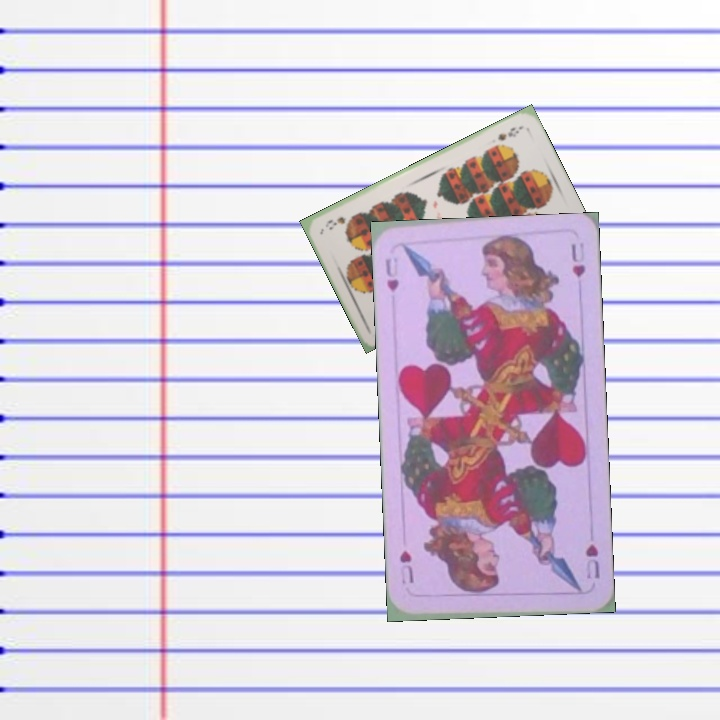HU: (581, 539, 603, 582), (381, 252, 402, 295)
S9: (493, 123, 522, 144)
